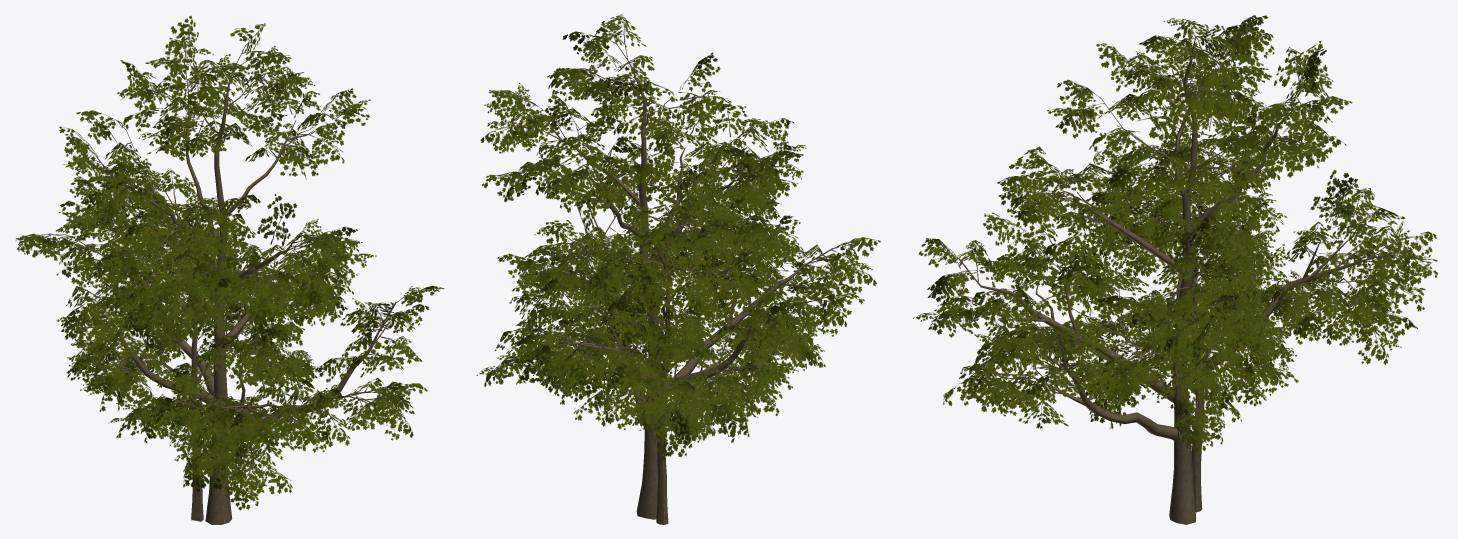
Rendered from tree2.glb.
The picture shows the model from 3 angles, left to right: view 1: azimuth 30°, elevation 25°; view 2: azimuth 150°, elevation 25°; view 3: azimuth 270°, elevation 25°; orthographic projection. The views are drawn at different scales.
Visible parts, largest first — view 1: Acer_large_3_LOD1_Cluster_Mat_0, Acer_medium_2_LOD0_Cluster_Mat_0, Acer_large_3_LOD1_Bark_Mat_0, Acer_medium_2_LOD0_Bark_Mat_0; view 2: Acer_large_3_LOD1_Cluster_Mat_0, Acer_medium_2_LOD0_Cluster_Mat_0, Acer_large_3_LOD1_Bark_Mat_0, Acer_medium_2_LOD0_Bark_Mat_0; view 3: Acer_large_3_LOD1_Cluster_Mat_0, Acer_medium_2_LOD0_Cluster_Mat_0, Acer_large_3_LOD1_Bark_Mat_0, Acer_medium_2_LOD0_Bark_Mat_0.
Part boxes in pixels (x1,y1,x2,y2): Acer_large_3_LOD1_Cluster_Mat_0: (15,15,444,510); Acer_medium_2_LOD0_Cluster_Mat_0: (67,158,335,491); Acer_large_3_LOD1_Bark_Mat_0: (62,51,396,524); Acer_medium_2_LOD0_Bark_Mat_0: (101,190,294,521); Acer_large_3_LOD1_Cluster_Mat_0: (476,14,880,429); Acer_medium_2_LOD0_Cluster_Mat_0: (517,184,793,460); Acer_large_3_LOD1_Bark_Mat_0: (522,42,832,519); Acer_medium_2_LOD0_Bark_Mat_0: (549,208,749,524); Acer_large_3_LOD1_Cluster_Mat_0: (913,15,1437,428); Acer_medium_2_LOD0_Cluster_Mat_0: (1037,124,1321,451); Acer_large_3_LOD1_Bark_Mat_0: (959,36,1394,524); Acer_medium_2_LOD0_Bark_Mat_0: (1081,149,1273,512).
Size of the model in its own units: 12.61 by 18.33 by 17.33.
Materials: 2 (2 with a texture image).
